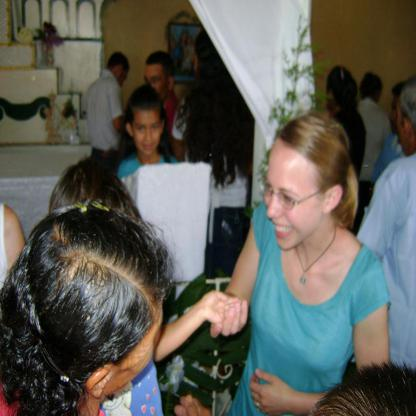face: (267, 140, 323, 250), (136, 113, 161, 157), (144, 64, 167, 103)
